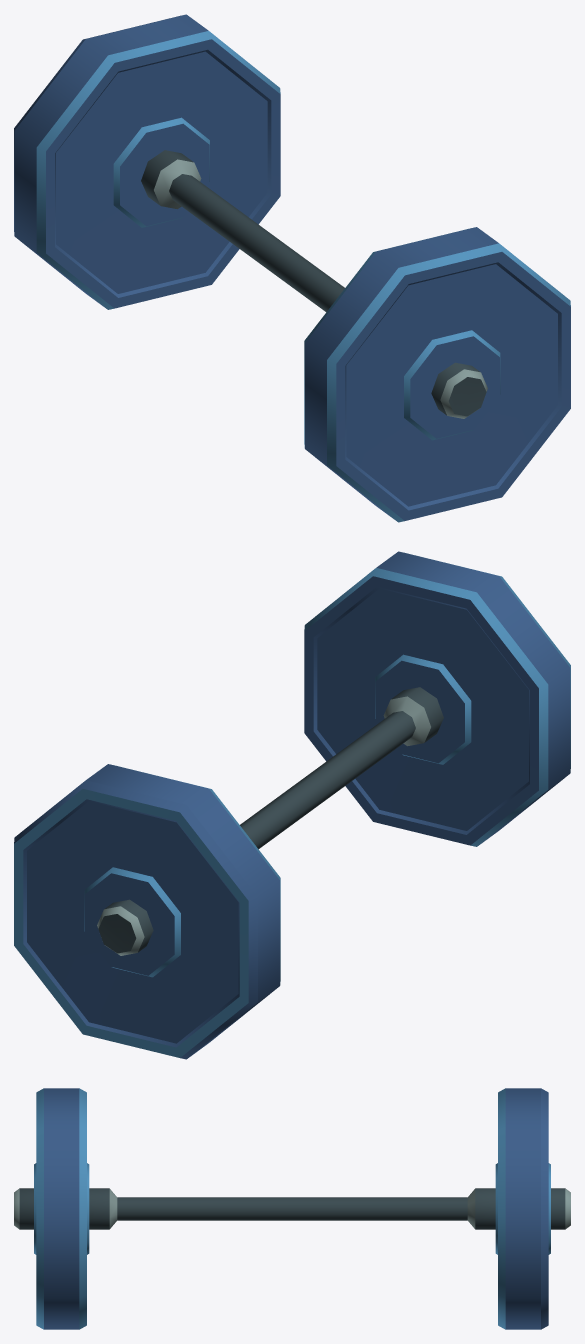
File: BarbellRod.fbx
The picture shows the model from 3 angles, top to bottom: view 1: azimuth 30°, elevation 25°; view 2: azimuth 150°, elevation 25°; view 3: azimuth 270°, elevation 25°; orthographic projection. The views are drawn at different scales.
Visible parts, largest first — view 1: BarbellRod; view 2: BarbellRod; view 3: BarbellRod.
Part boxes in pixels (bbox=[...]): BarbellRod: bbox=[14, 14, 570, 522]; BarbellRod: bbox=[14, 551, 570, 1059]; BarbellRod: bbox=[14, 1088, 570, 1329].
Size of the model in its own units: 55.85 by 55.85 by 139.
